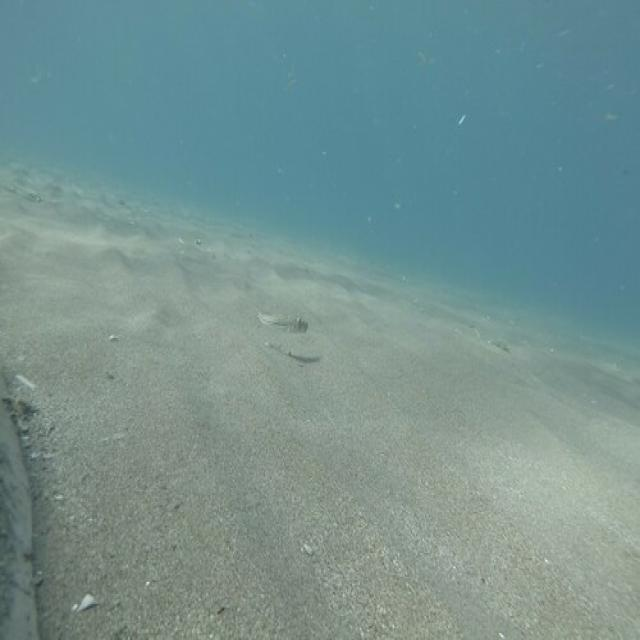Balik: (257, 312, 307, 329)
